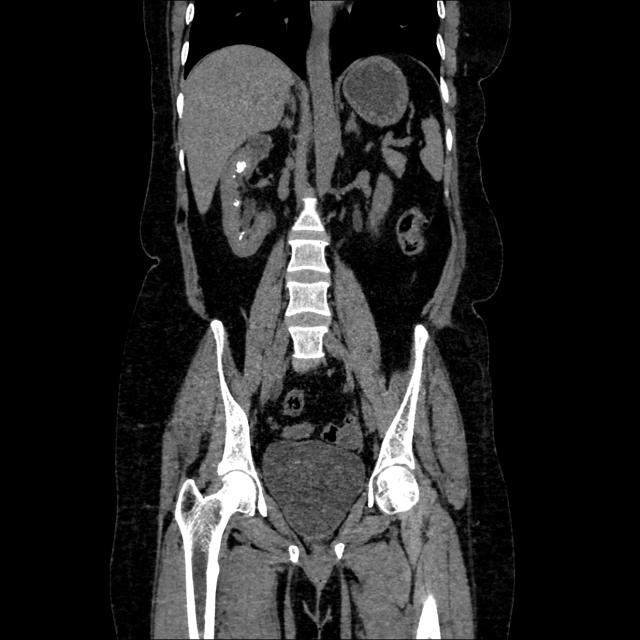kidney: (219, 131, 277, 257)
stone: (234, 160, 246, 173), (238, 230, 245, 241), (233, 199, 240, 207)
